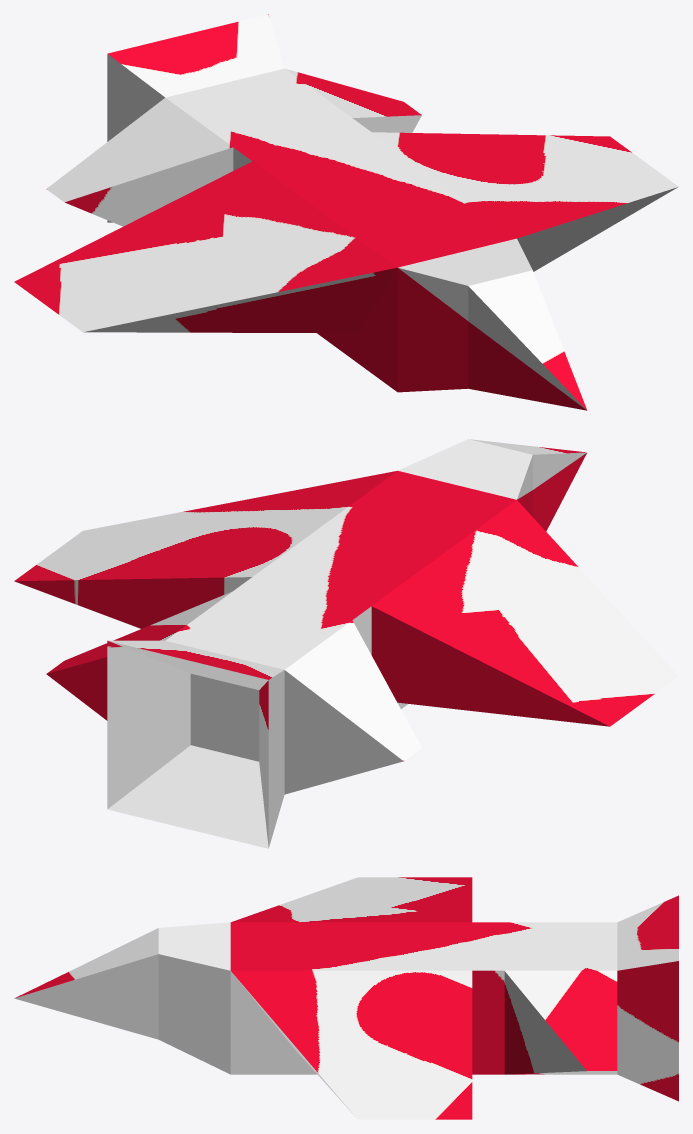
The model's file is player.obj.
3 views of the same model, one above another, from view 1: azimuth 30°, elevation 25°; view 2: azimuth 150°, elevation 25°; view 3: azimuth 270°, elevation 25° (orthographic). The views are drawn at different scales.
Parts seen in each view (by area): view 1: Cube; view 2: Cube; view 3: Cube.
Boxes of the visible parts, bbox=[...] form: Cube: bbox=[14, 14, 678, 410]; Cube: bbox=[14, 439, 678, 848]; Cube: bbox=[14, 877, 678, 1119].
Bounding box in the file's own units: 1.75 × 0.4727 × 2.03.
1 material, 1 textured.
